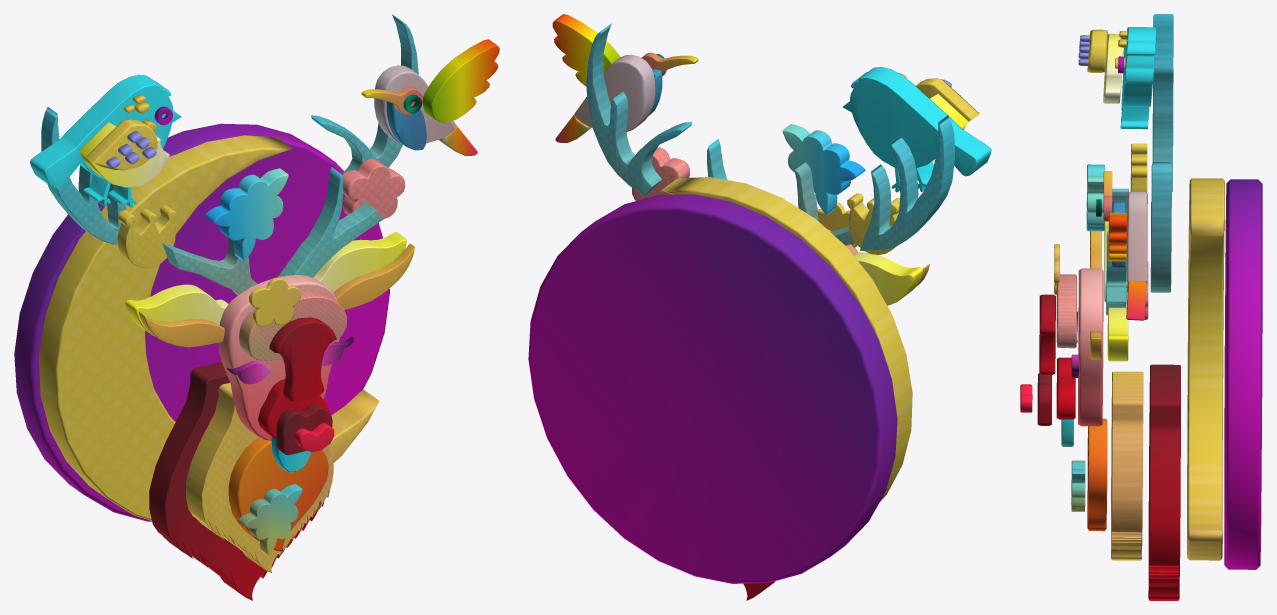
3 views of the same model, side by side, from view 1: azimuth 30°, elevation 25°; view 2: azimuth 150°, elevation 25°; view 3: azimuth 270°, elevation 25° (orthographic). The views are drawn at different scales.
Parts seen in each view (by area): view 1: Cube_L1_1, Cube_L1, Cube_L3_7, Cube_L3_6, Cube_L4_12, Cube_L3_2, Cube_L3_5, Cube_L4_3, Cube_L4_2, Cube_L4, Cube_L2_4, Cube_L4_8 (+21 smaller); view 2: Cube_L1, Cube_L1_1, Cube_L4_12, Cube_L4_8, Cube_L4_1, Cube_L4_3, Cube_L4_10, Cube_L4, Cube_L3_3, Cube_L4_5, Cube_L4_7, Cube_L4_4 (+3 smaller); view 3: Cube_L1, Cube_L1_1, Cube_L3_7, Cube_L3_6, Cube_L3_2, Cube_L4_12, Cube_L4_8, Cube_L4_1, Cube_L3_5, Cube_L4_10, Cube_L2_3, Cube_L2_4 (+16 smaller).
Part boxes in pixels (box(x1,y1,x2,y2)): Cube_L1_1: box(39, 135, 379, 520); Cube_L1: box(14, 123, 389, 521); Cube_L3_7: box(149, 362, 324, 600); Cube_L3_6: box(186, 383, 333, 572); Cube_L4_12: box(30, 74, 181, 207); Cube_L3_2: box(218, 275, 339, 440); Cube_L3_5: box(228, 437, 328, 551); Cube_L4_3: box(204, 168, 288, 261); Cube_L4_2: box(278, 167, 383, 277); Cube_L4: box(422, 39, 499, 122); Cube_L2_4: box(269, 317, 336, 401); Cube_L4_8: box(41, 107, 126, 244); Cube_L1: box(528, 194, 897, 583); Cube_L1_1: box(661, 177, 912, 501); Cube_L4_12: box(843, 67, 991, 192); Cube_L4_8: box(860, 115, 954, 250); Cube_L4_1: box(586, 23, 692, 195); Cube_L4_3: box(782, 124, 865, 214); Cube_L4_10: box(574, 54, 655, 131); Cube_L4: box(552, 14, 620, 86); Cube_L3_3: box(853, 252, 922, 305); Cube_L4_5: box(847, 193, 899, 254); Cube_L4_7: box(632, 147, 689, 200); Cube_L4_4: box(793, 161, 854, 245); Cube_L1: box(1224, 179, 1262, 569); Cube_L1_1: box(1187, 178, 1224, 560); Cube_L3_7: box(1148, 364, 1180, 600); Cube_L3_6: box(1111, 371, 1143, 560); Cube_L3_2: box(1078, 268, 1103, 426); Cube_L4_12: box(1115, 27, 1156, 129); Cube_L4_8: box(1152, 14, 1173, 191); Cube_L4_1: box(1150, 162, 1171, 292); Cube_L3_5: box(1087, 418, 1107, 531); Cube_L4_10: box(1127, 191, 1147, 282); Cube_L2_3: box(1056, 274, 1076, 348); Cube_L2_4: box(1039, 294, 1055, 374).
Size of the model in its own units: 15.18 by 17.9 by 7.61.
